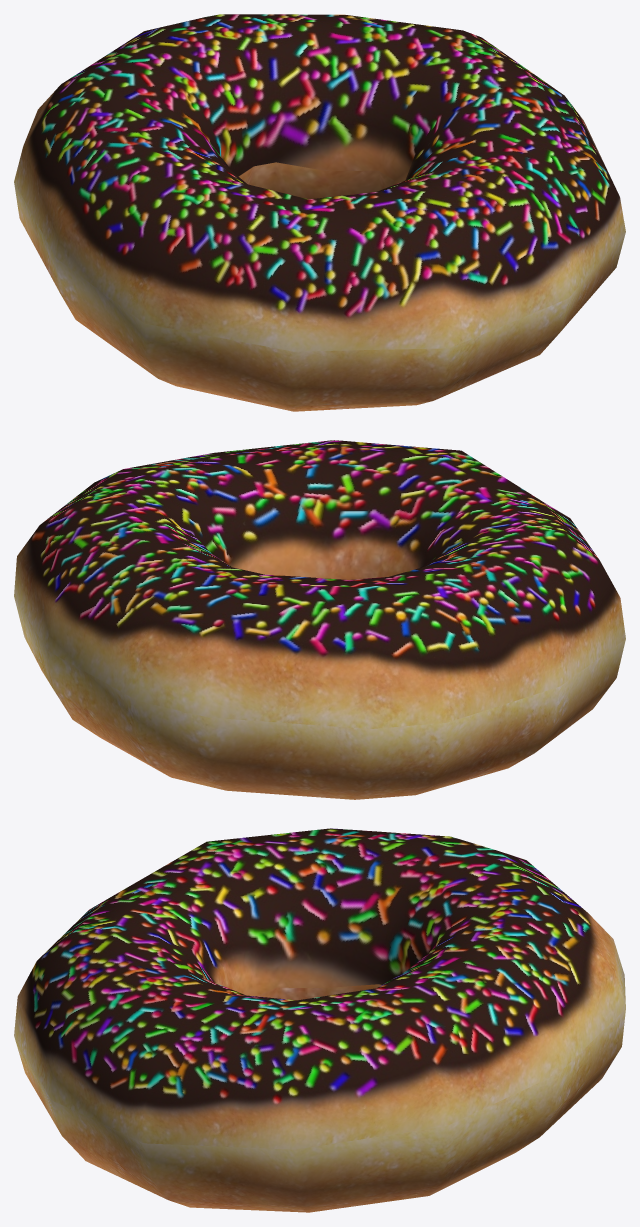
The model's file is Donut11LP.obj.
The picture shows the model from 3 angles, top to bottom: view 1: azimuth 30°, elevation 25°; view 2: azimuth 150°, elevation 25°; view 3: azimuth 270°, elevation 25°; orthographic projection.
Parts seen in each view (by area): view 1: donut067; view 2: donut067; view 3: donut067.
Boxes of the visible parts, x1,y1,x2,y2 form: donut067: (14,14,625,411); donut067: (14,440,625,799); donut067: (14,828,625,1212).
Size of the model in its own units: 9.42 by 3.94 by 9.78.
1 material, 1 textured.
